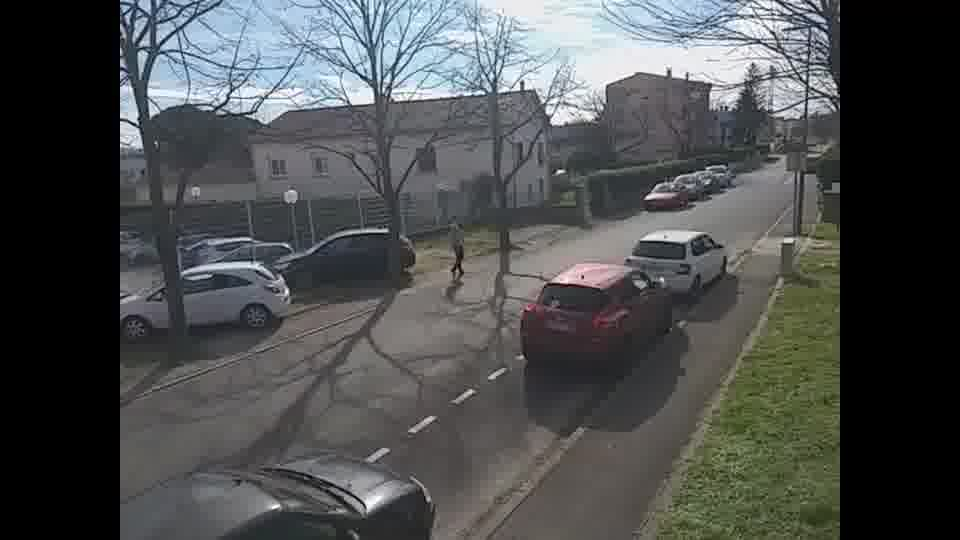jugador: (442, 205, 473, 282)
